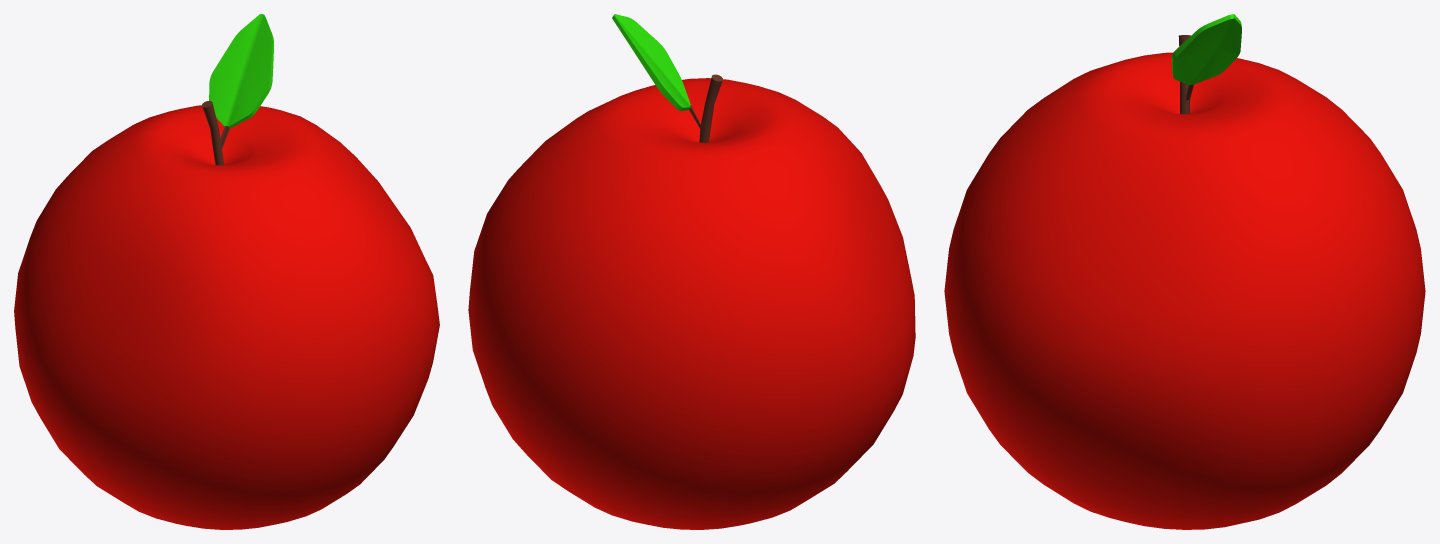
The model's file is Apple.fbx.
3 renders of one model, left to right at view 1: azimuth 30°, elevation 25°; view 2: azimuth 150°, elevation 25°; view 3: azimuth 270°, elevation 25°, orthographic. The views are drawn at different scales.
Parts seen in each view (by area): view 1: Sphere; view 2: Sphere; view 3: Sphere.
Boxes of the visible parts, x1,y1,x2,y2 form: Sphere: [14, 14, 439, 529]; Sphere: [468, 14, 915, 529]; Sphere: [944, 14, 1425, 529].
Size of the model in its own units: 198 by 233 by 200.
